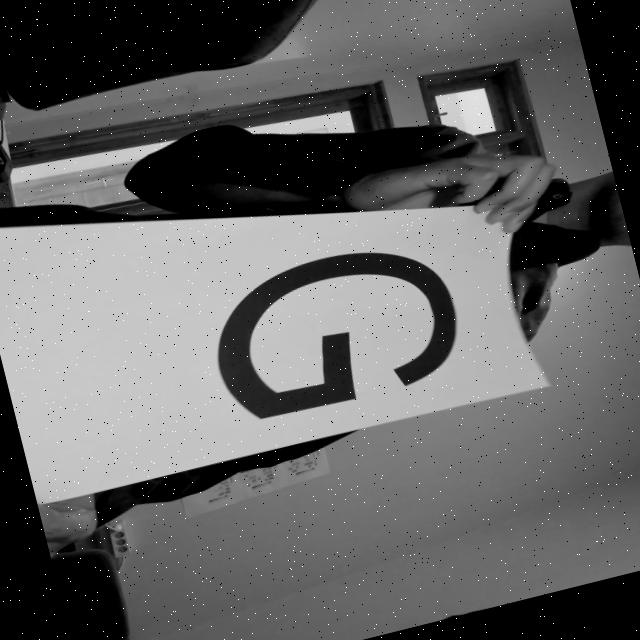g: (183, 221, 484, 440)
